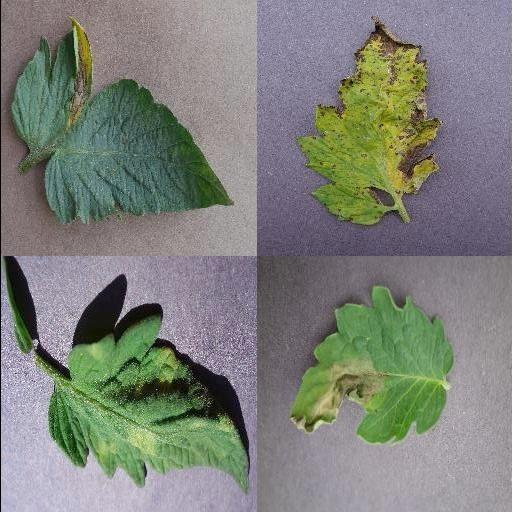Early Blight: (10, 14, 232, 228)
Late Blight: (288, 286, 454, 446)
Leaf Mold: (46, 315, 250, 493)
Septoria: (297, 15, 440, 225)
